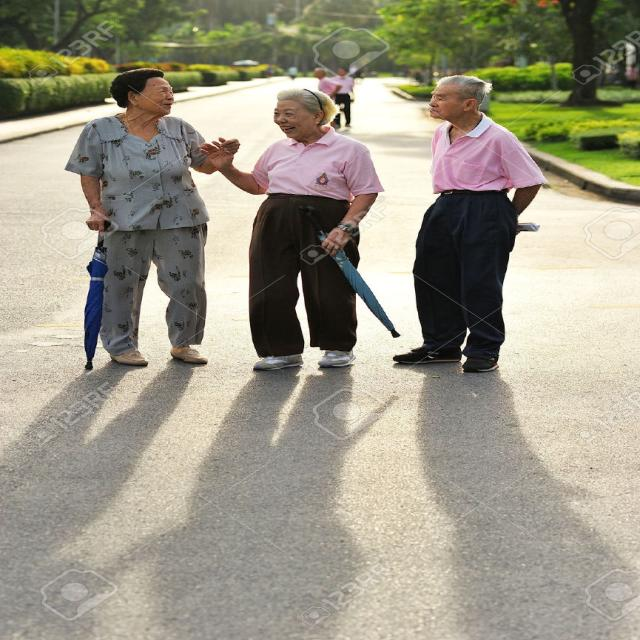body: (0, 362, 640, 640), (196, 87, 390, 374), (62, 65, 245, 369), (387, 72, 553, 373), (322, 65, 356, 130), (313, 69, 343, 99), (264, 64, 298, 80), (621, 62, 638, 88), (351, 65, 373, 80)
